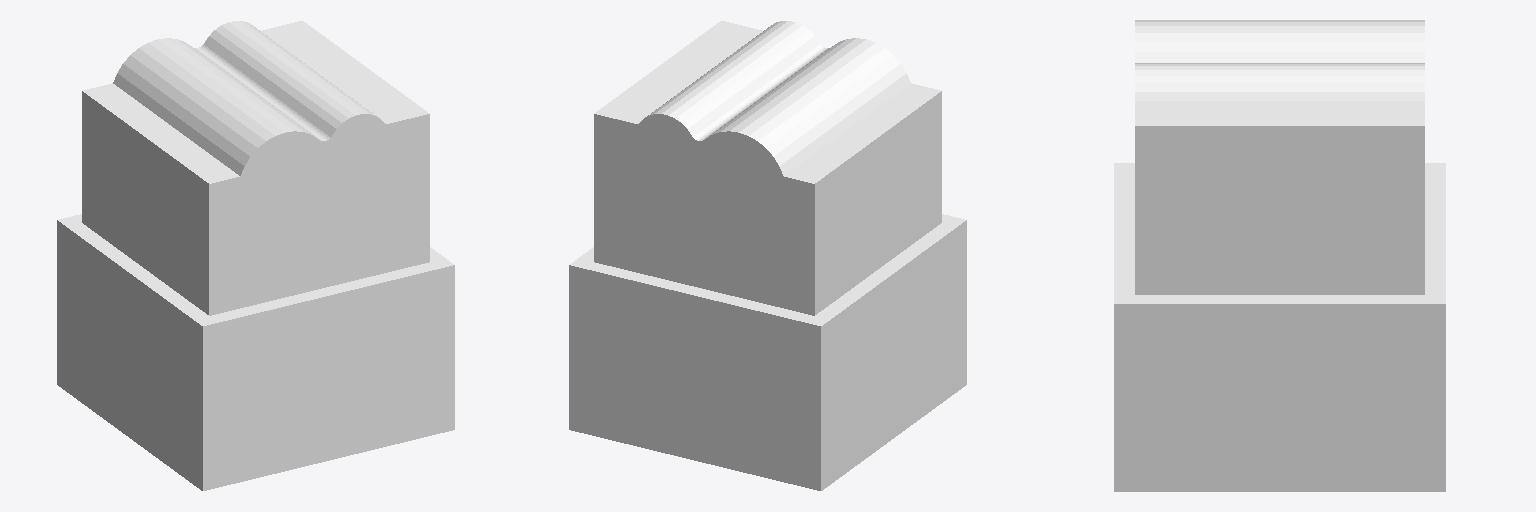
URDF robot description (wave1):
<robot name="wave1">
	<link name="_name">
		<visual>
			<origin rpy="0 0 0" xyz="-6.483335227675084e-05 0.0 -0.00930097905156696" />
			<geometry>
				<mesh filename="wave1.obj" scale=".001 .001 .001" />
			</geometry>
			<material name="texture">
				<color rgba="1.0 1.0 1.0 1.0" />
			</material>
		</visual>
		<collision>
			<geometry>
				<mesh filename="wave1_vhacd.obj" scale=".001 .001 .001" />
			</geometry>
		<origin rpy="0 0 0" xyz="-6.483335227675084e-05 0.0 -0.00930097905156696" /></collision>
		<inertial>
			<mass value="1.0" />
			<inertia ixx="1.0" ixy="0.0" ixz="0.0" iyy="1.0" iyz="0.0" izz="1.0" />
		</inertial>
	</link>
</robot>

--- Facts derived from the render (not from the file) ---
The picture shows the robot from 3 angles, left to right: view 1: azimuth 30°, elevation 25°; view 2: azimuth 150°, elevation 25°; view 3: azimuth 270°, elevation 25°; orthographic projection.
Robot: wave1 — 1 links, 0 joints (none); root link _name; default pose: every joint at zero.
Links seen in each view (by area): view 1: _name; view 2: _name; view 3: _name.
Boxes of the visible links, x1=… form: _name: x1=57, y1=21, x2=454, y2=490; _name: x1=569, y1=21, x2=966, y2=490; _name: x1=1114, y1=20, x2=1445, y2=491.
Size in the robot's own frame: 0.016 by 0.016 by 0.02 metres.
Meshes: 1 distinct files referenced, 1 mesh visuals loaded (1 OBJ).